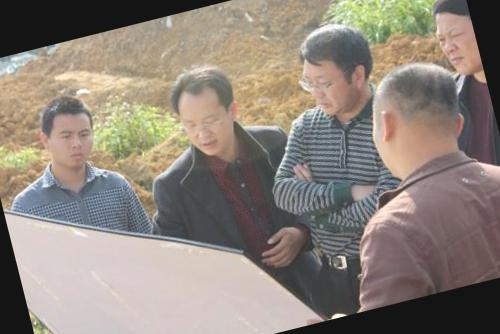no_helmet: (354, 50, 480, 186), (159, 55, 252, 164), (287, 14, 382, 120), (29, 86, 108, 180), (422, 0, 483, 80)
